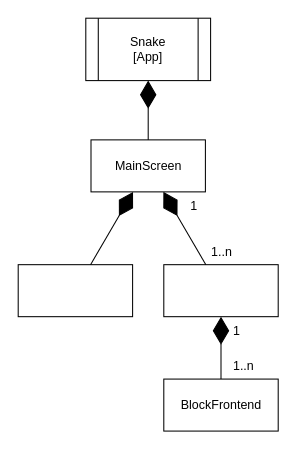
Image size: 296x449. Some labels were removed from this diagram. The shapes that lost their labels are listed below. From the top down, each one's centre as x and y in pixels, then its label:
point 75,290: Menu
point 220,290: RowBlock
